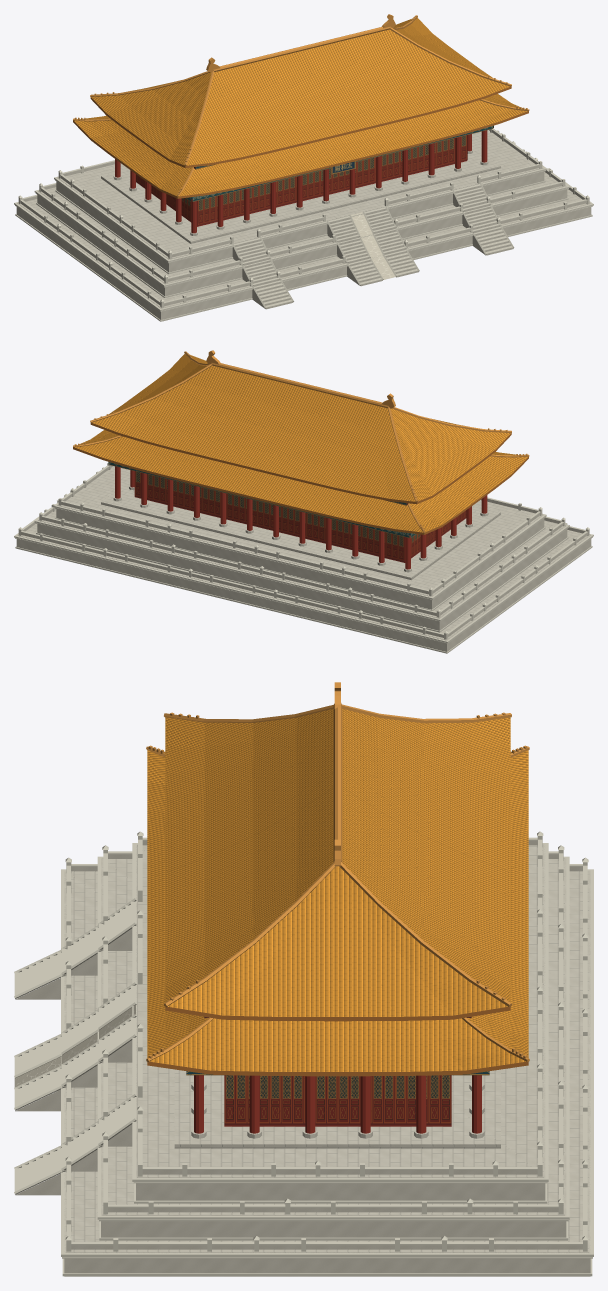
The model's file is gugong.glb.
3 views of the same model, one above another, from view 1: azimuth 30°, elevation 25°; view 2: azimuth 150°, elevation 25°; view 3: azimuth 270°, elevation 25° (orthographic). The views are drawn at different scales.
Visible parts, largest first — view 1: 太和殿_全国版; view 2: 太和殿_全国版; view 3: 太和殿_全国版.
Boxes of the visible parts, x1,y1,x2,y2 form: 太和殿_全国版: (14,14,593,321); 太和殿_全国版: (14,350,593,653); 太和殿_全国版: (14,682,593,1276).
Bounding box in the file's own units: 86.64 × 33.98 × 55.09.
Materials: 14 (7 with a texture image).
